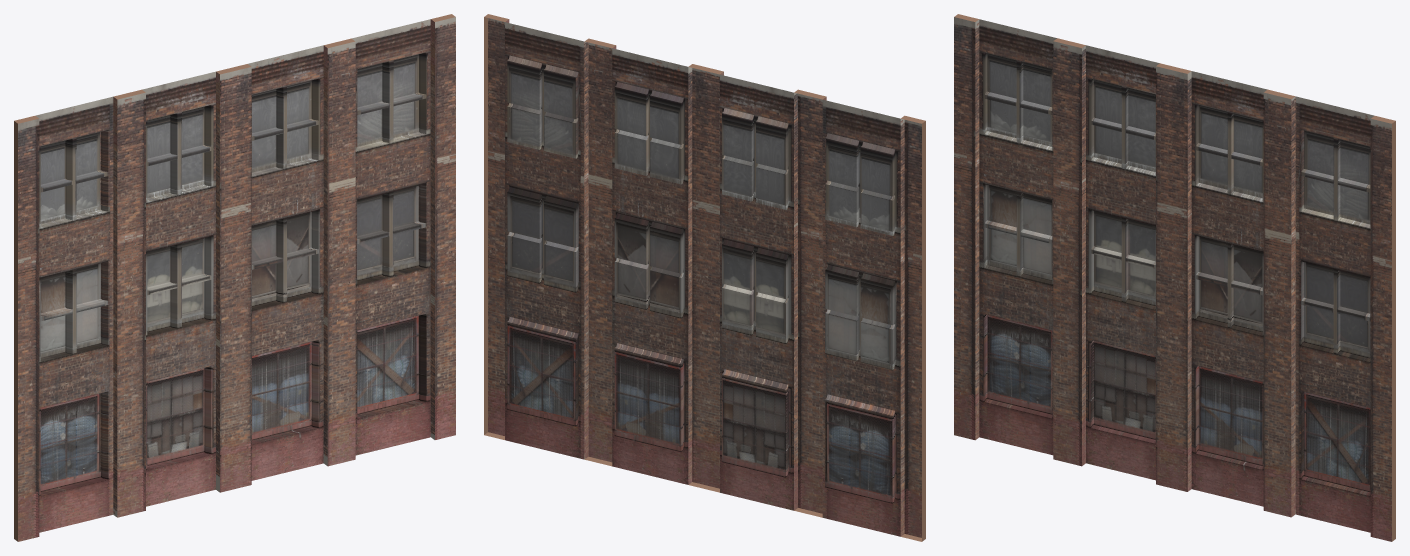
3 renders of one model, left to right at view 1: azimuth 30°, elevation 25°; view 2: azimuth 150°, elevation 25°; view 3: azimuth 330°, elevation 25°, orthographic.
Visible parts, largest first — view 1: TexturesCom_BuildingsIndustrial0097_2_M; view 2: TexturesCom_BuildingsIndustrial0097_2_M; view 3: TexturesCom_BuildingsIndustrial0097_2_M.
Boxes of the visible parts, left/top/right/bottom form: TexturesCom_BuildingsIndustrial0097_2_M: left=14, top=14, right=455, bottom=541; TexturesCom_BuildingsIndustrial0097_2_M: left=484, top=14, right=925, bottom=541; TexturesCom_BuildingsIndustrial0097_2_M: left=954, top=14, right=1395, bottom=541.
Bounding box in the file's own units: 2.4 × 2.19 × 0.0847.
2 materials, 2 textured.
